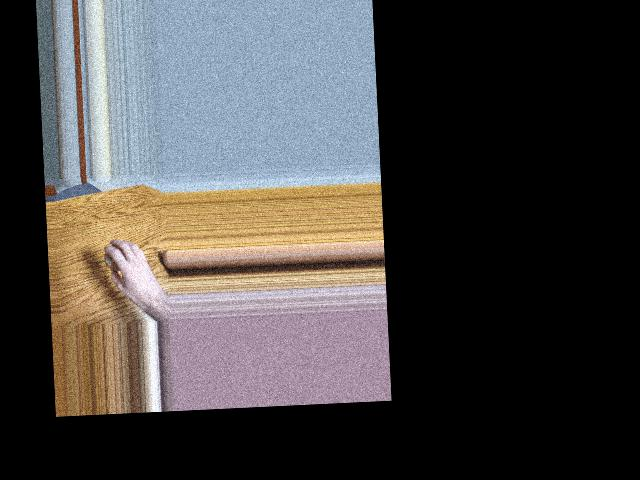onion: (102, 241, 129, 273)
